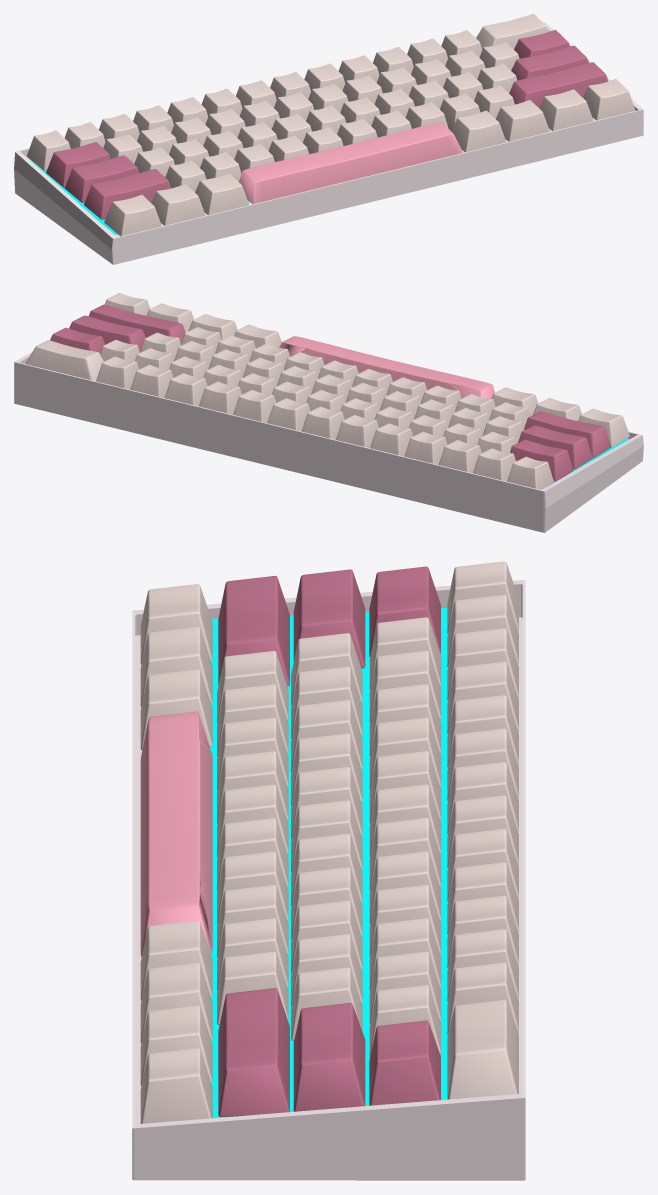
Rendered from keyboard.gltf.
The picture shows the model from 3 angles, top to bottom: view 1: azimuth 30°, elevation 25°; view 2: azimuth 150°, elevation 25°; view 3: azimuth 270°, elevation 25°; orthographic projection. The views are drawn at different scales.
Visible parts, largest first — view 1: keyboard object; view 2: keyboard object; view 3: keyboard object.
Part boxes in pixels (<box>): keyboard object: <box>14,14,643,264</box>; keyboard object: <box>14,293,643,532</box>; keyboard object: <box>132,561,525,1180</box>.
Size of the model in its own units: 7.57 by 0.7872 by 2.43.
